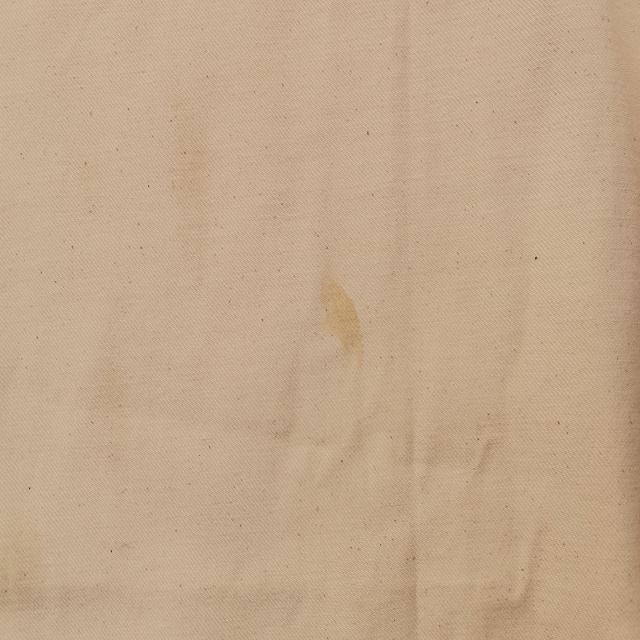taaaches: (314, 248, 371, 369)
